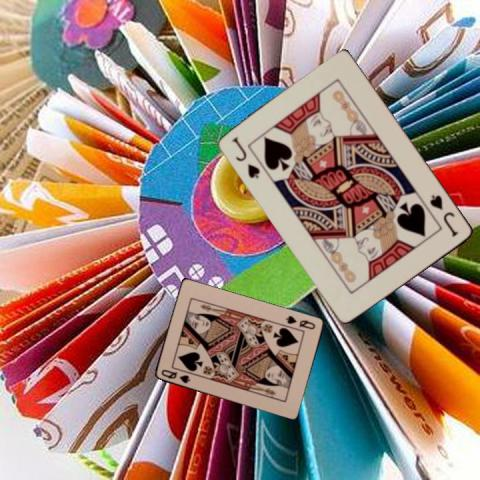Js: (427, 191, 460, 239), (229, 134, 262, 181)
Qs: (158, 366, 191, 385), (283, 312, 317, 330)
